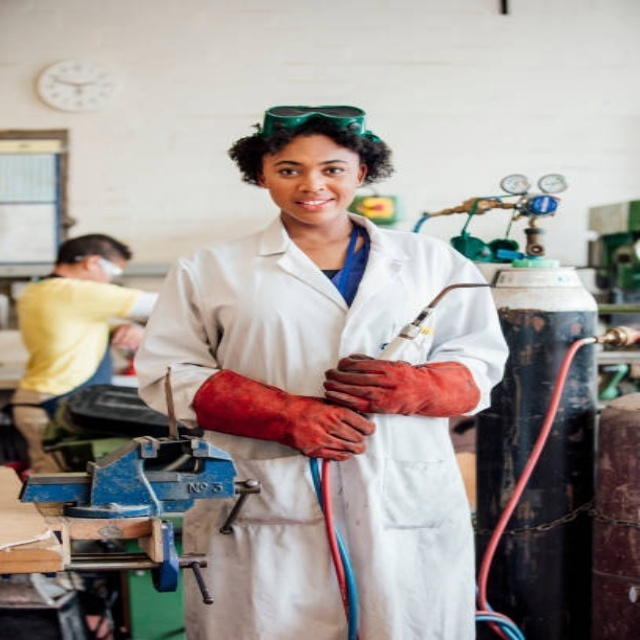Guantes: (184, 362, 372, 464), (324, 357, 478, 418)
Sin_gafas: (268, 158, 359, 178)
Sin_mascara: (279, 193, 344, 218)
